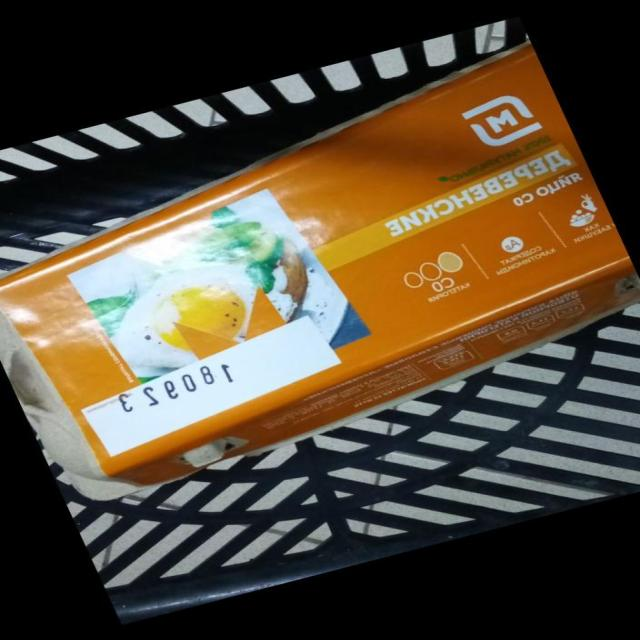egg: (251, 24, 640, 122)
